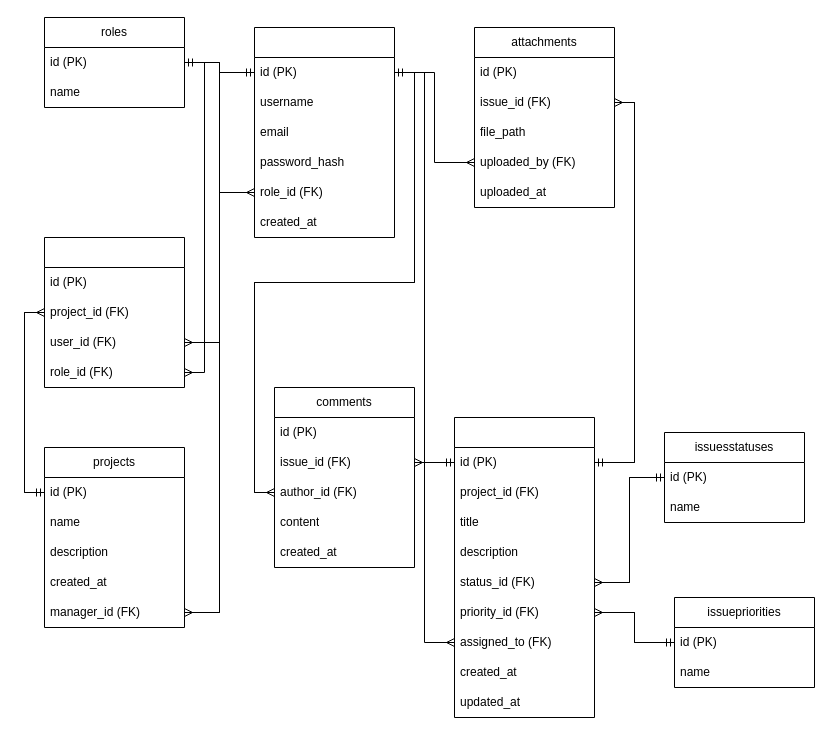
This 832x735 diagram has some shape labels left out. Each missing label, with the box of its shape:
issues: (454, 416, 594, 718)
projectmembers: (44, 236, 184, 388)
users: (254, 26, 394, 238)
